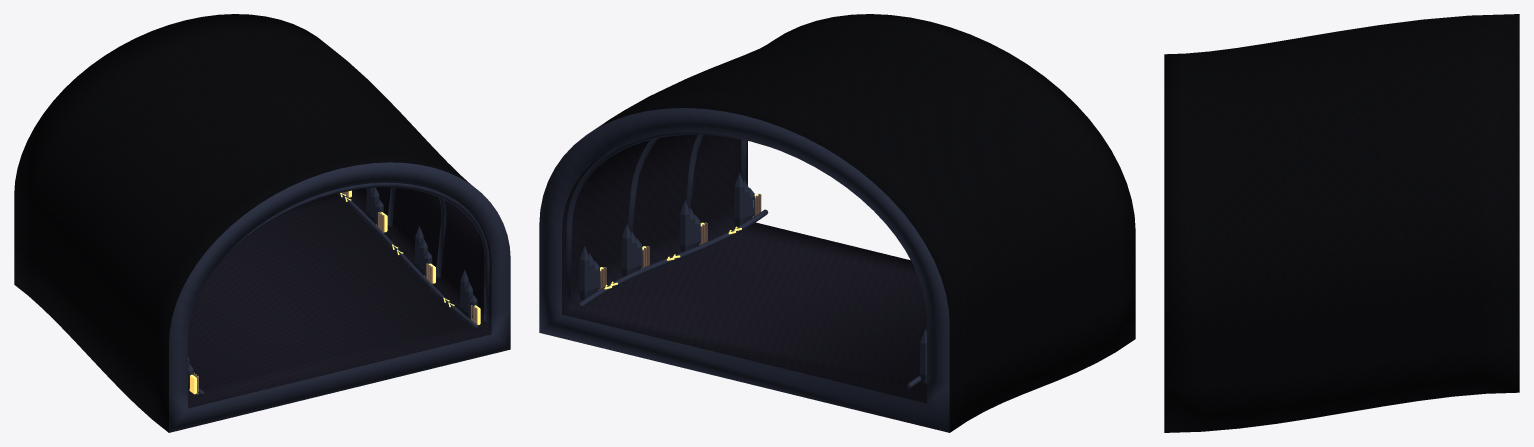
The model's file is grade_up_lod1.glb.
The picture shows the model from 3 angles, left to right: view 1: azimuth 30°, elevation 25°; view 2: azimuth 150°, elevation 25°; view 3: azimuth 270°, elevation 25°; orthographic projection. The views are drawn at different scales.
Parts seen in each view (by area): view 1: TunnelGeometry.001; view 2: TunnelGeometry.001; view 3: TunnelGeometry.001.
Part boxes in pixels (x1,y1,x2,y2): TunnelGeometry.001: [14, 14, 510, 432]; TunnelGeometry.001: [539, 14, 1135, 432]; TunnelGeometry.001: [1164, 14, 1519, 432].
Bounding box in the file's own units: 15.3 × 11.02 × 12.
5 materials, 2 textured.
